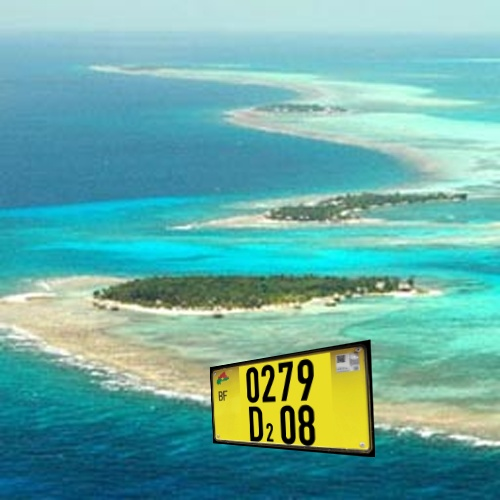plate: (189, 323, 402, 461)
